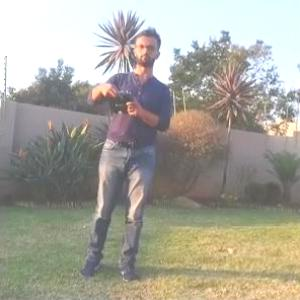follow: (73, 17, 173, 285)
